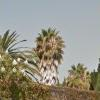Palm tree: (29, 21, 65, 84)
